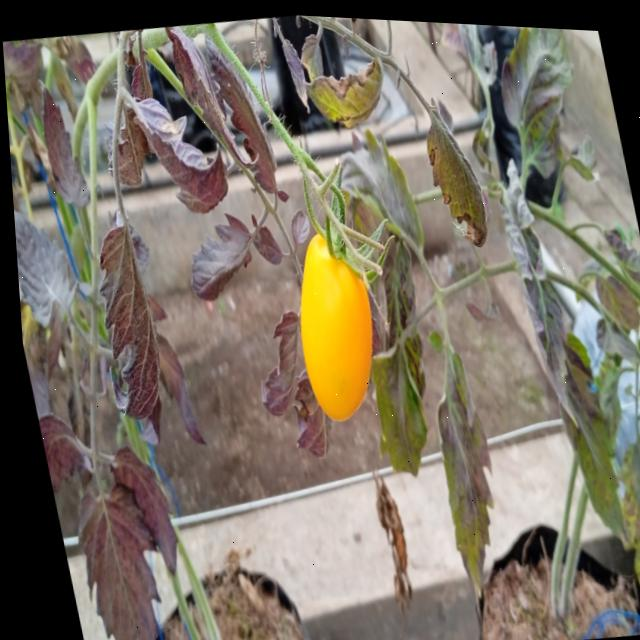fine: (257, 193, 411, 451)
